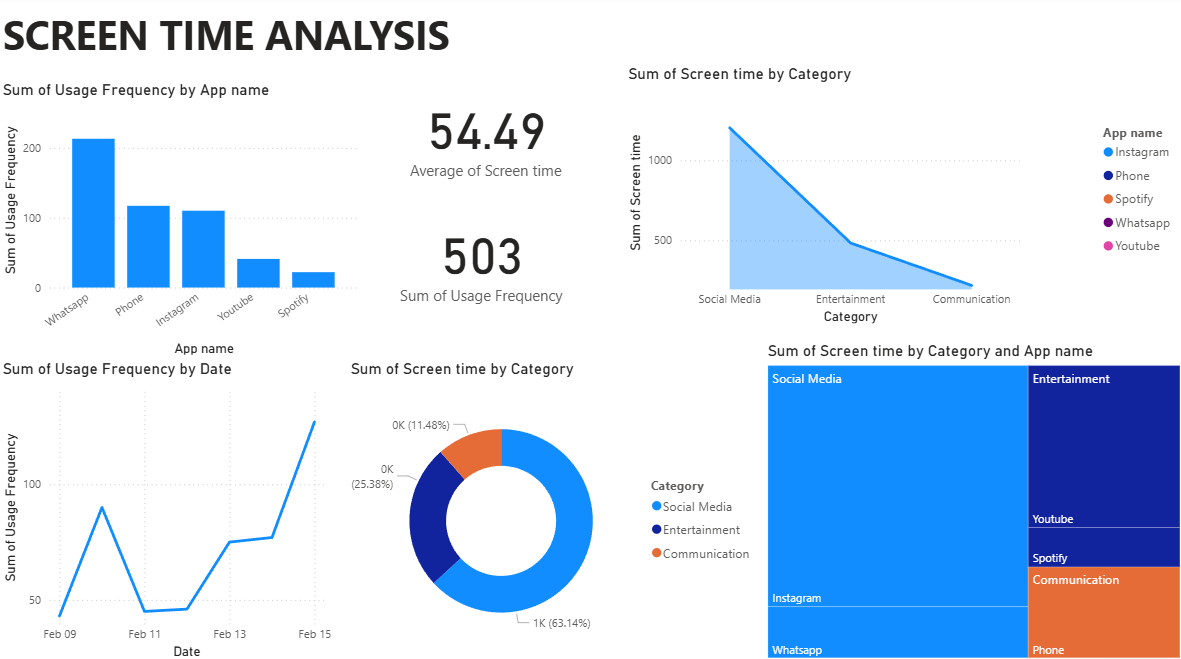

This screenshot's page, from the dashboard's own definition file:
{"tool":"powerbi","page":{"name":"Page 1","canvas":[1280,720],"ordinal":0},"visuals":[{"type":"lineChart","fields":{"Category":["Table 1 (Sheet1).Date"],"Y":["Sum(Table 1 (Sheet1).Usage Frequency)"]},"box":[9.7,446.9,474.4,263.9],"z":0},{"type":"clusteredColumnChart","fields":{"Category":["Table 1 (Sheet1).App name"],"Y":["Sum(Table 1 (Sheet1).Usage Frequency)"]},"box":[497.1,72.9,631.5,270.4],"z":1000},{"type":"card","title":"Average Screen time","fields":{"Values":["Avg(Table 1 (Sheet1).Screen time)"]},"box":[267.2,74.5,217,103.6],"z":2000},{"type":"listSlicer","fields":{"Values":["Table 1 (Sheet1).App name"]},"box":[1139.9,74.5,129.5,268.8],"z":3000},{"type":"areaChart","fields":{"Category":["Table 1 (Sheet1).Category"],"Y":["Sum(Table 1 (Sheet1).Screen time)"]},"box":[9.7,184.6,474.4,246.1],"z":4000},{"type":"treemap","fields":{"Details":["Table 1 (Sheet1).App name"],"Values":["Sum(Table 1 (Sheet1).Screen time)"]},"box":[863,359.5,406.4,351.4],"z":5000},{"type":"card","title":"Total Usage Frequency","fields":{"Values":["Sum(Table 1 (Sheet1).Usage Frequency)"]},"box":[9.7,74.5,217,103.6],"z":6000},{"type":"textbox","box":[0,8.1,497.1,66.4],"z":7000},{"type":"donutChart","title":"Percentage of Total Screen time ","fields":{"Y":["Sum(Table 1 (Sheet1).Screen time)"],"Category":["Table 1 (Sheet1).Category"]},"box":[497.1,359.5,349.8,351.4],"z":8000}]}

Visuals, with their boxes in screenshot pixels (x1, y1, x2, y2), scaled from the page's 1280x720 canvas onto the 1181x659 screenshot:
lineChart - Table 1 (Sheet1).Date x Sum(Table 1 (Sheet1).Usage Frequency): bbox(9, 409, 447, 651)
clusteredColumnChart - Table 1 (Sheet1).App name x Sum(Table 1 (Sheet1).Usage Frequency): bbox(459, 67, 1041, 314)
"Average Screen time" card: bbox(247, 68, 447, 163)
listSlicer - Table 1 (Sheet1).App name: bbox(1052, 68, 1171, 314)
areaChart - Table 1 (Sheet1).Category x Sum(Table 1 (Sheet1).Screen time): bbox(9, 169, 447, 394)
treemap - Table 1 (Sheet1).App name x Sum(Table 1 (Sheet1).Screen time): bbox(796, 329, 1171, 651)
"Total Usage Frequency" card: bbox(9, 68, 209, 163)
textbox: bbox(0, 7, 459, 68)
"Percentage of Total Screen time " donutChart: bbox(459, 329, 781, 651)
